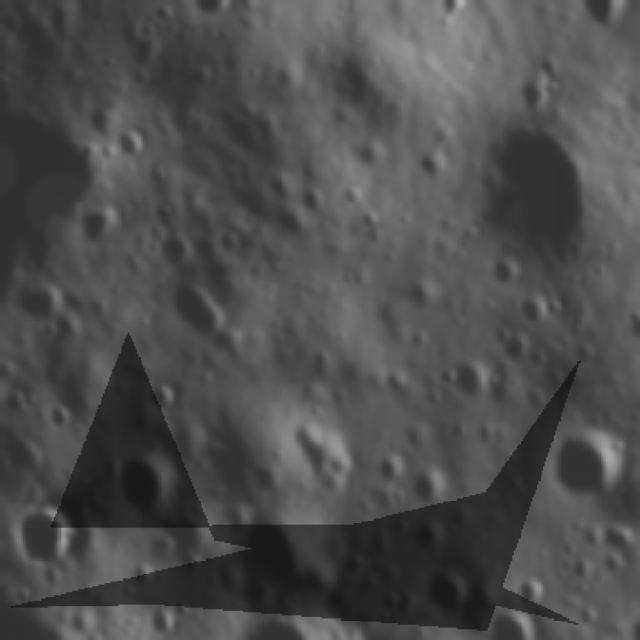crater: (455, 101, 608, 257), (237, 508, 321, 588), (549, 430, 623, 507), (107, 445, 181, 518), (17, 502, 88, 573), (279, 420, 356, 483), (167, 278, 233, 340), (426, 568, 474, 624), (12, 279, 62, 330), (482, 603, 544, 640), (2, 434, 48, 478), (448, 356, 490, 404), (75, 198, 118, 244), (110, 119, 148, 167), (141, 375, 184, 416), (267, 202, 310, 242), (406, 519, 448, 559), (411, 464, 451, 504), (153, 230, 193, 270), (410, 143, 445, 186), (511, 577, 554, 611), (489, 252, 523, 294), (372, 448, 408, 487), (402, 275, 438, 314), (191, 234, 227, 272), (499, 327, 535, 364), (515, 290, 550, 328), (140, 602, 175, 640), (597, 522, 635, 556), (129, 559, 160, 598), (160, 592, 198, 623), (514, 77, 548, 111), (338, 549, 372, 582), (352, 134, 382, 171), (3, 384, 32, 422), (597, 545, 629, 578), (49, 398, 74, 438), (263, 256, 294, 286), (217, 228, 246, 260), (382, 363, 411, 395), (402, 325, 432, 353), (358, 203, 387, 229), (134, 22, 164, 47), (437, 362, 461, 391), (98, 139, 119, 172), (489, 320, 513, 346), (368, 608, 394, 629), (377, 588, 401, 610), (152, 2, 176, 23), (449, 418, 471, 440)
